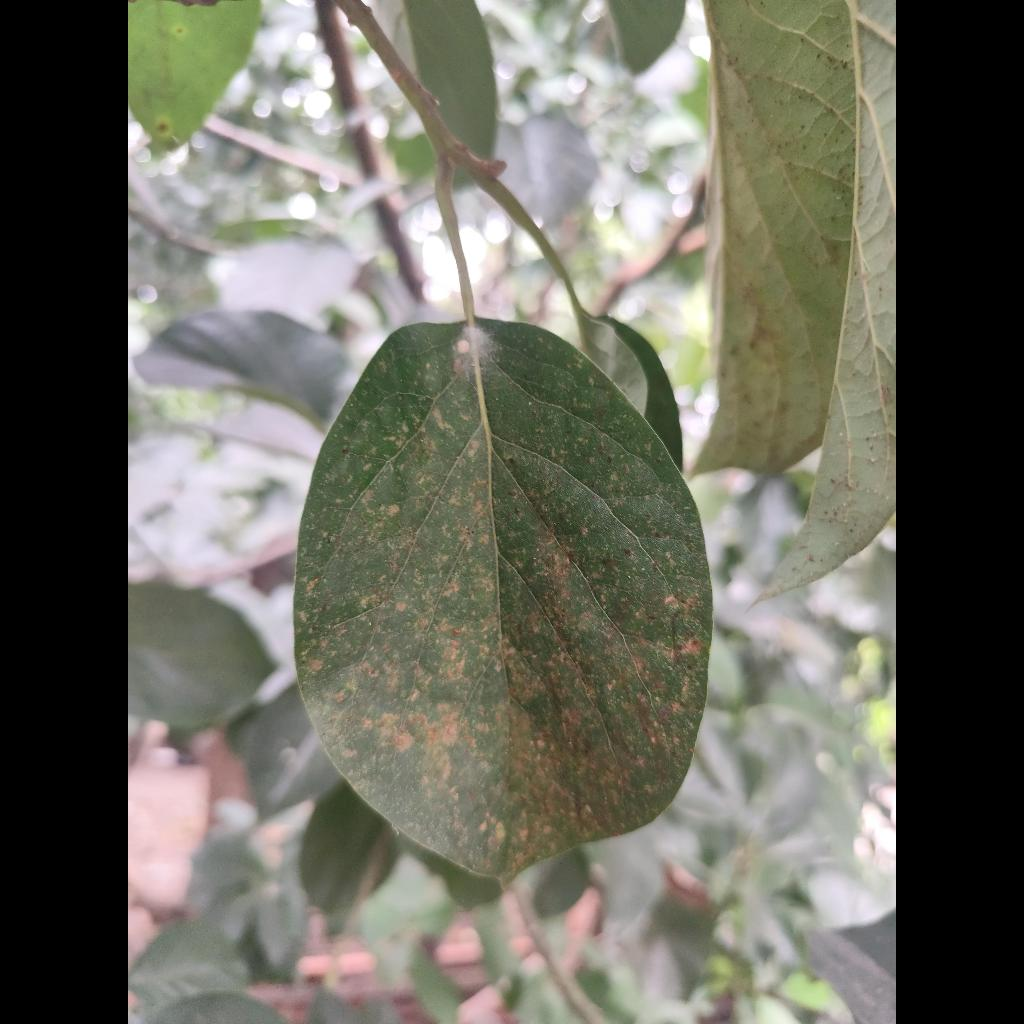Anthracnose: (294, 318, 712, 882)
